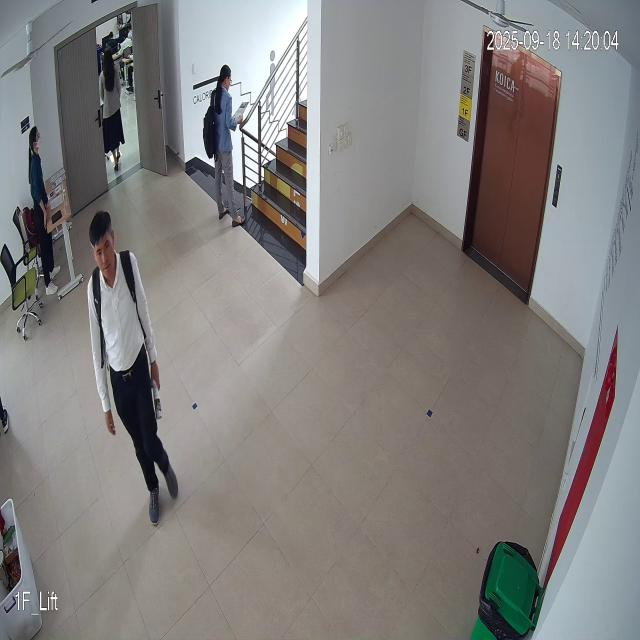face: (87, 207, 117, 280)
